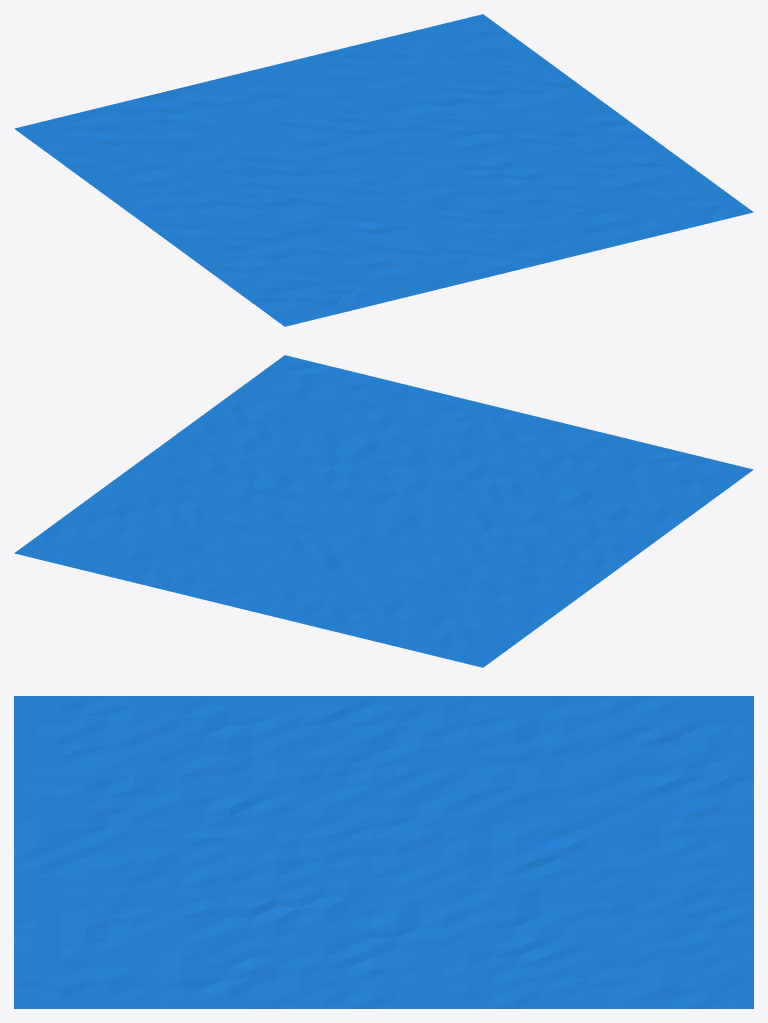
The model's file is Water.fbx.
3 views of the same model, one above another, from view 1: azimuth 30°, elevation 25°; view 2: azimuth 150°, elevation 25°; view 3: azimuth 270°, elevation 25° (orthographic). The views are drawn at different scales.
Parts seen in each view (by area): view 1: Water-01; view 2: Water-01; view 3: Water-01.
Boxes of the visible parts, box(x1,y1,x2,y2) form: Water-01: box(14, 14, 753, 326); Water-01: box(14, 355, 753, 667); Water-01: box(14, 696, 753, 1008).
Size of the model in its own units: 1600 by 7.04 by 1600.
